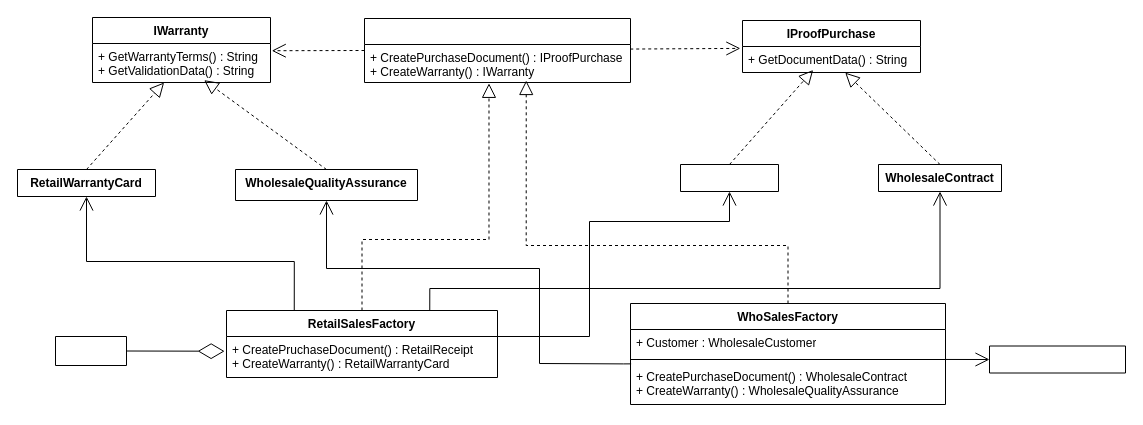
Image size: 1143x425. Some labels were removed from this diagram. The box of each missing label's shape, as (x1, y1, x2, y2) in pixels:
ISalesFactory: (364, 18, 630, 82)
Product: (54, 336, 126, 366)
RetailReceipt: (680, 164, 778, 192)
WholesaleCustomer: (988, 345, 1126, 373)
